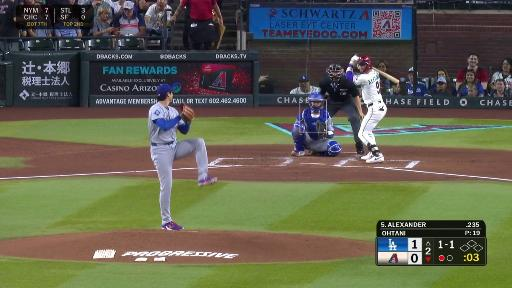pitcher: (149, 83, 218, 231)
